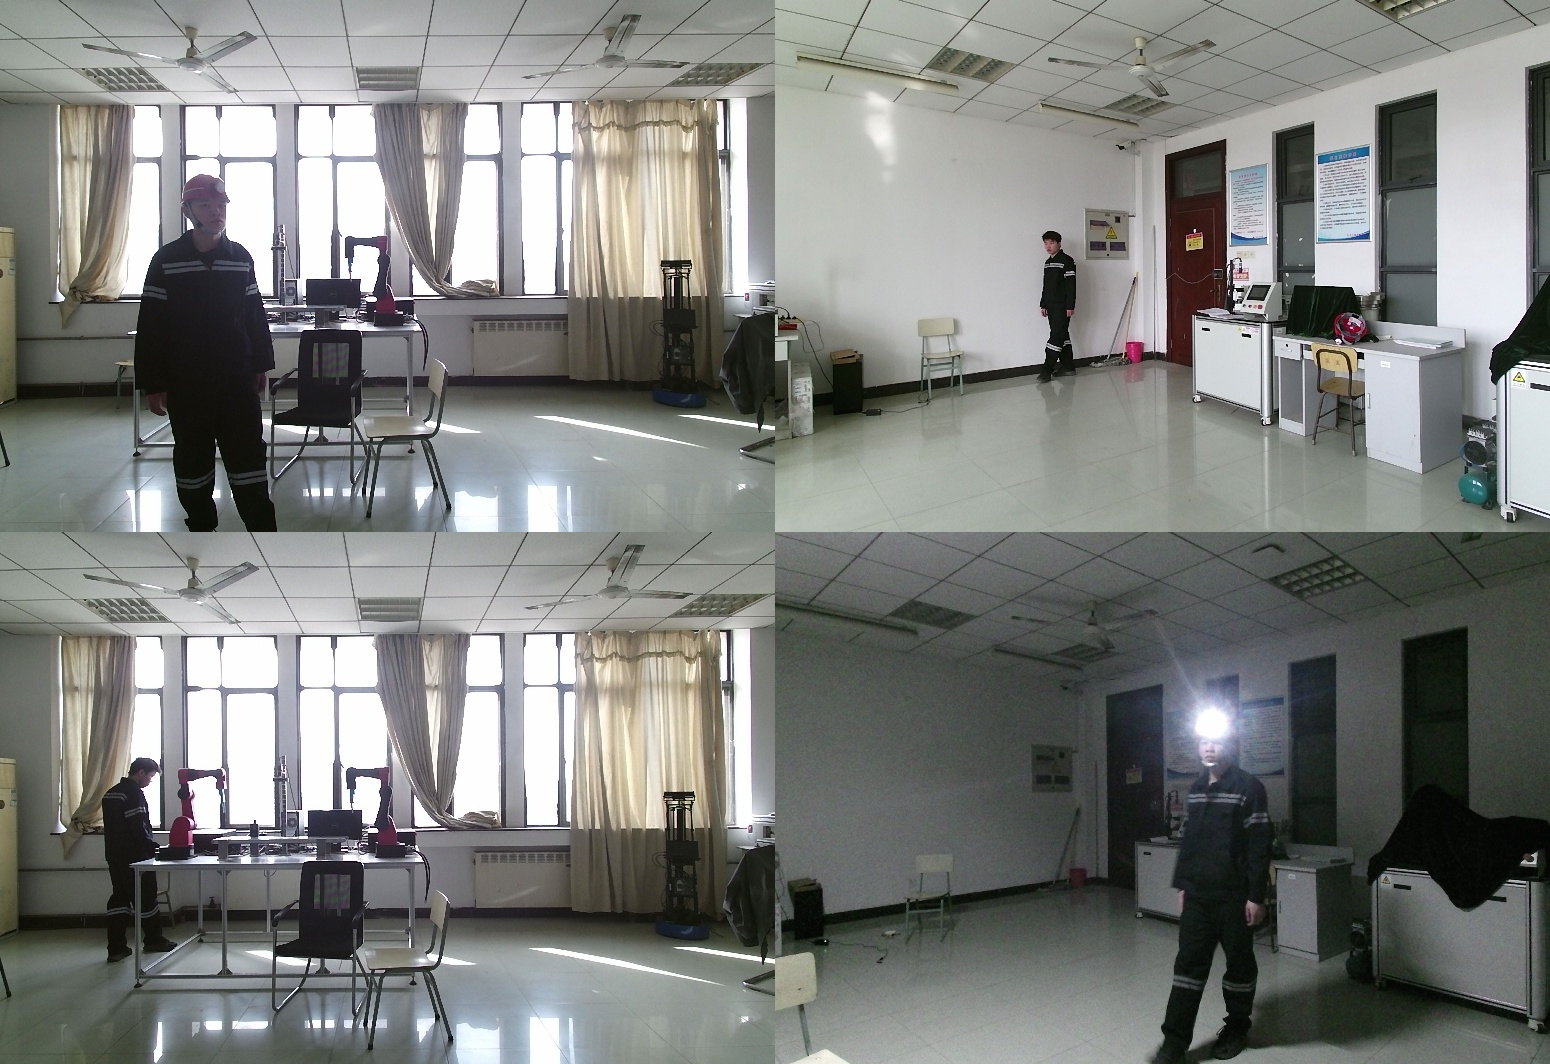person: (139, 176, 293, 532), (1141, 713, 1289, 1064), (94, 757, 177, 963), (1039, 229, 1080, 385)
